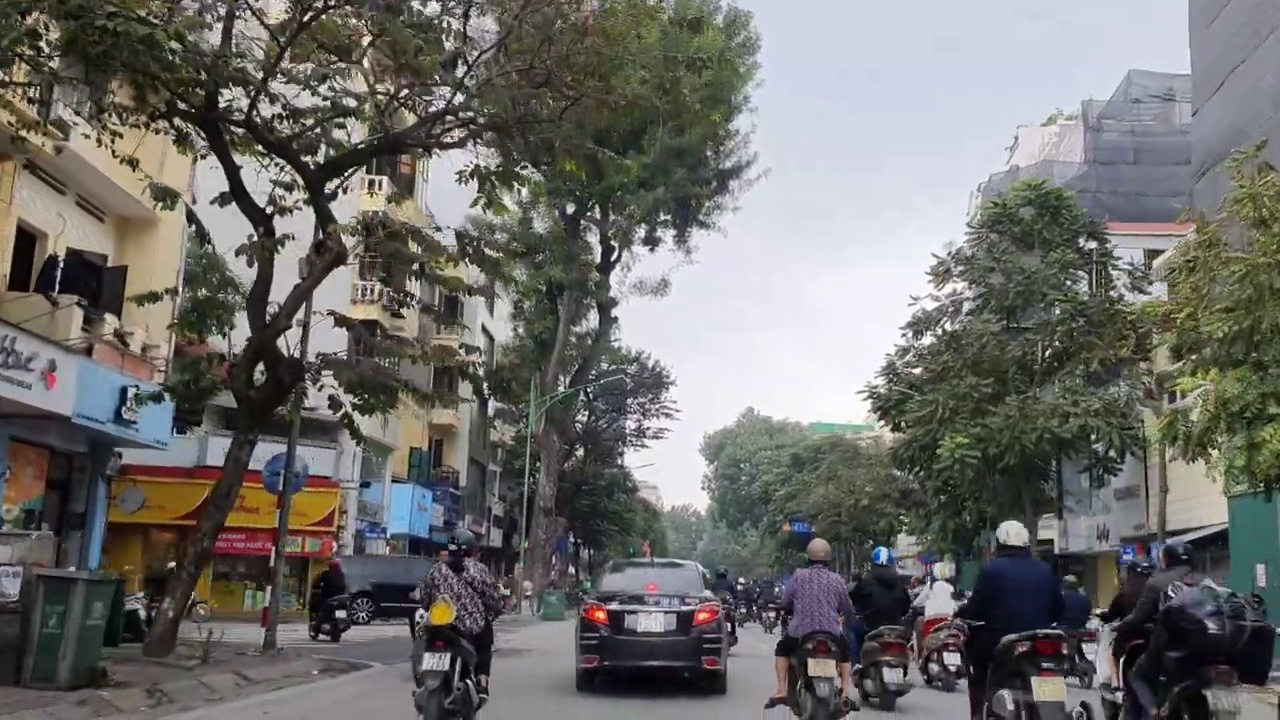vehicle-plate: (1029, 676, 1068, 700), (807, 659, 840, 679), (424, 649, 449, 673), (881, 667, 907, 685), (940, 651, 961, 669)
